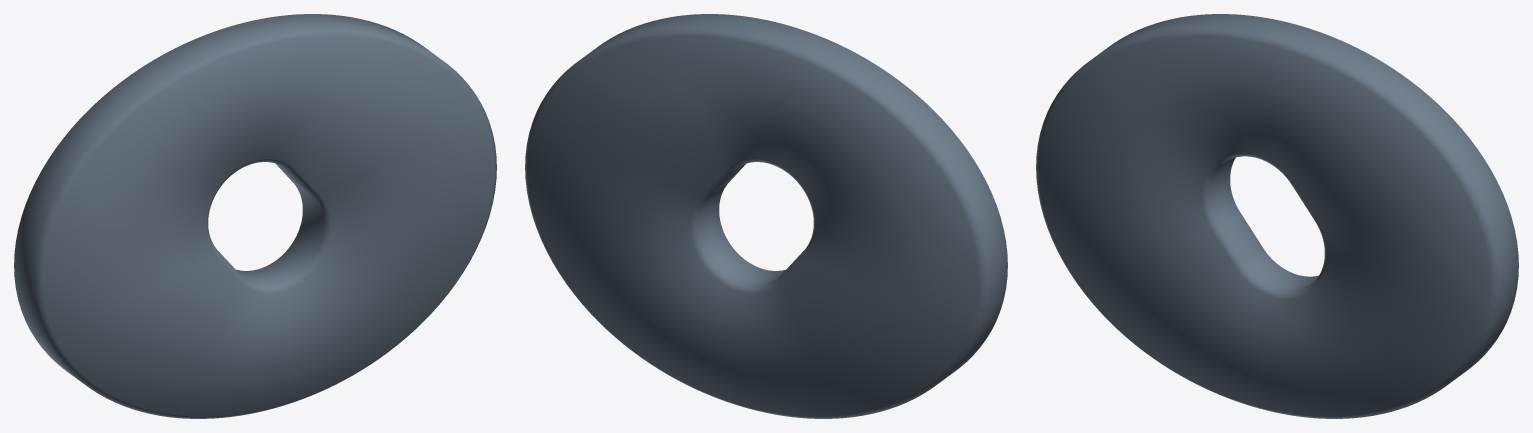
The model's file is plate.obj.
3 views of the same model, side by side, from view 1: azimuth 30°, elevation 25°; view 2: azimuth 150°, elevation 25°; view 3: azimuth 330°, elevation 25° (orthographic).
Size of the model in its own units: 0.028 by 0.0216 by 0.0028.
